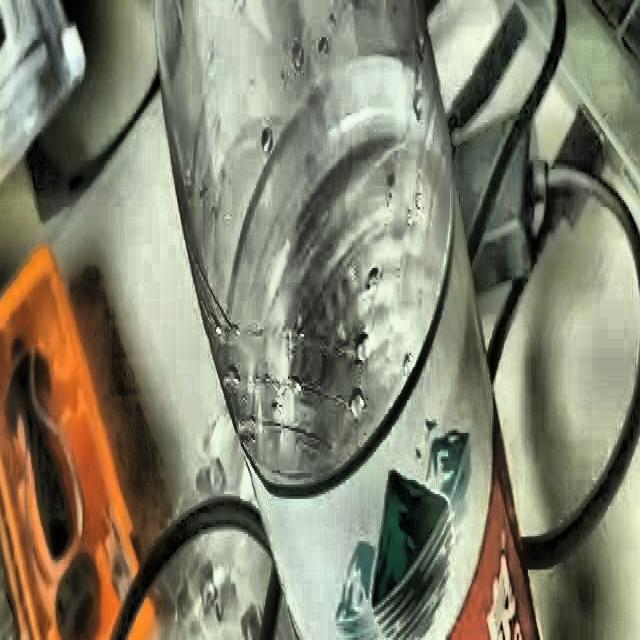plastic: (114, 0, 573, 640)
